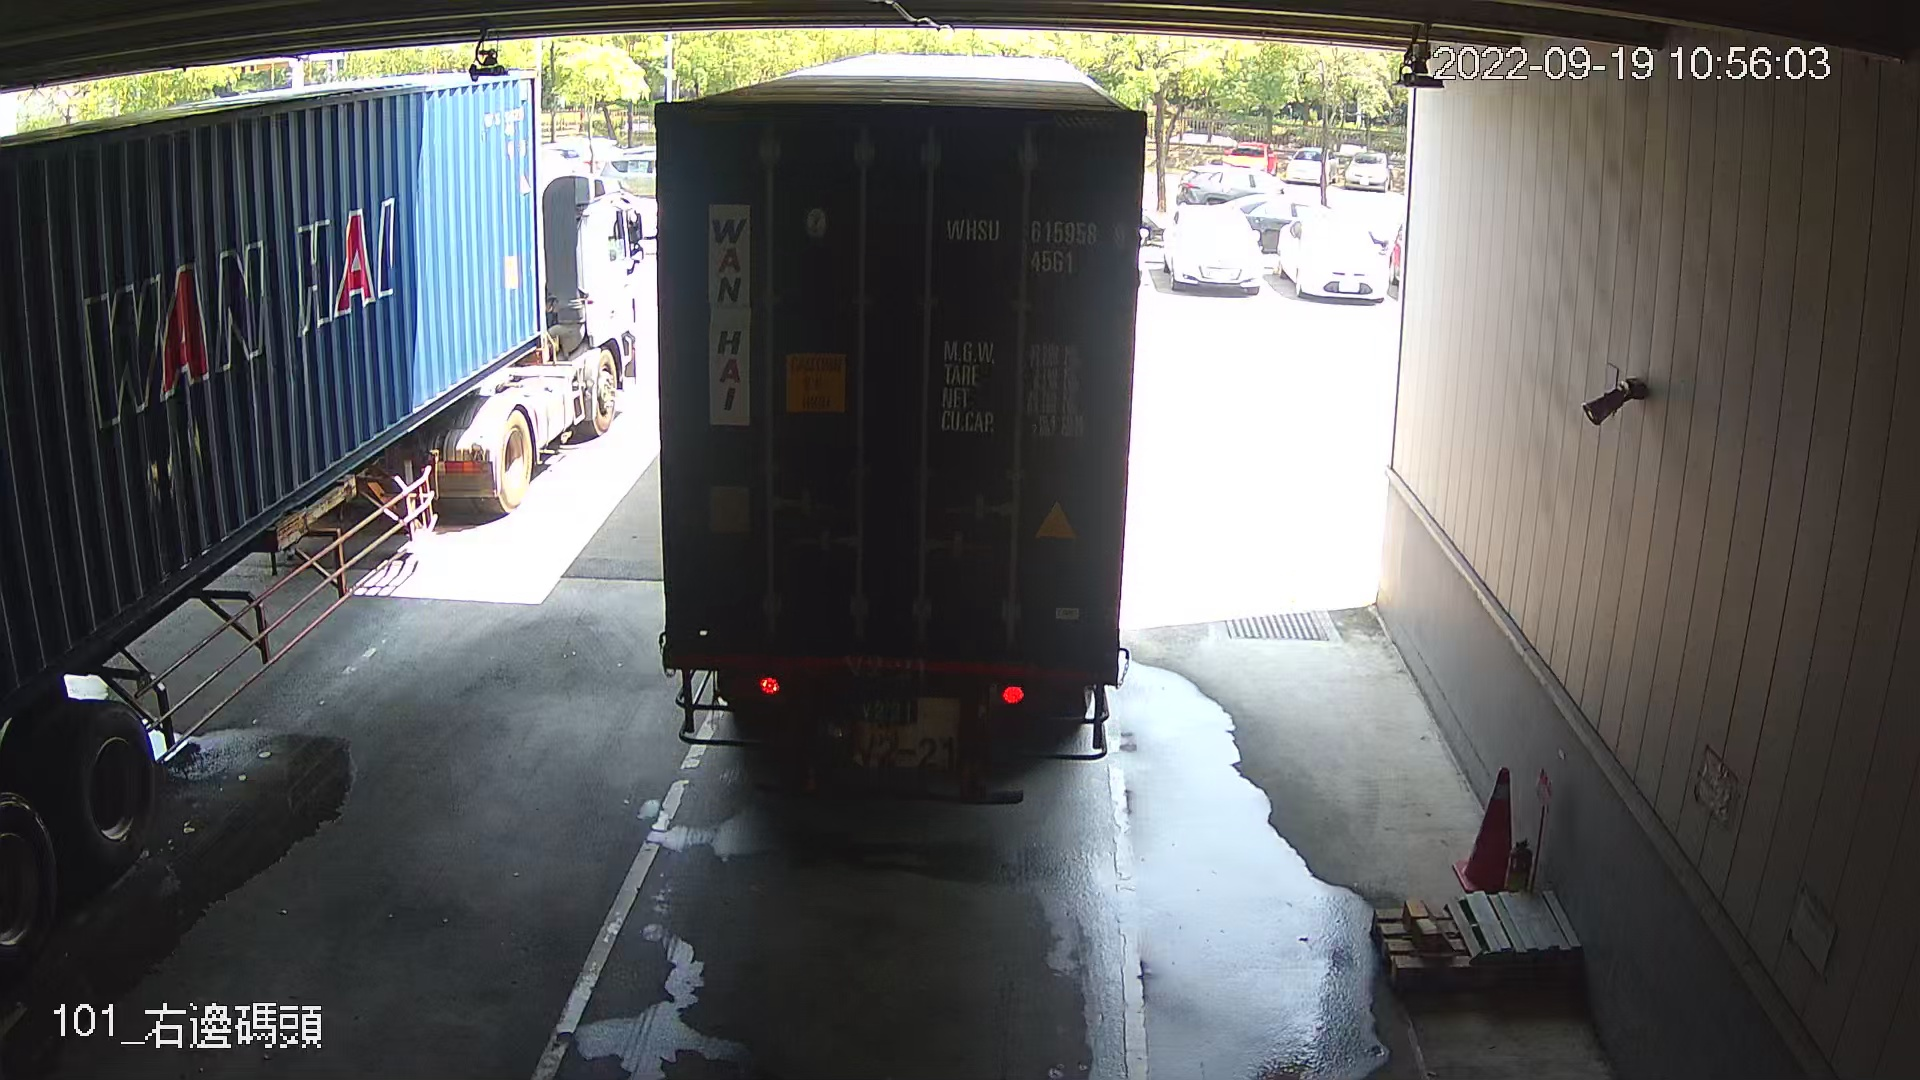container: (942, 207, 1131, 277)
